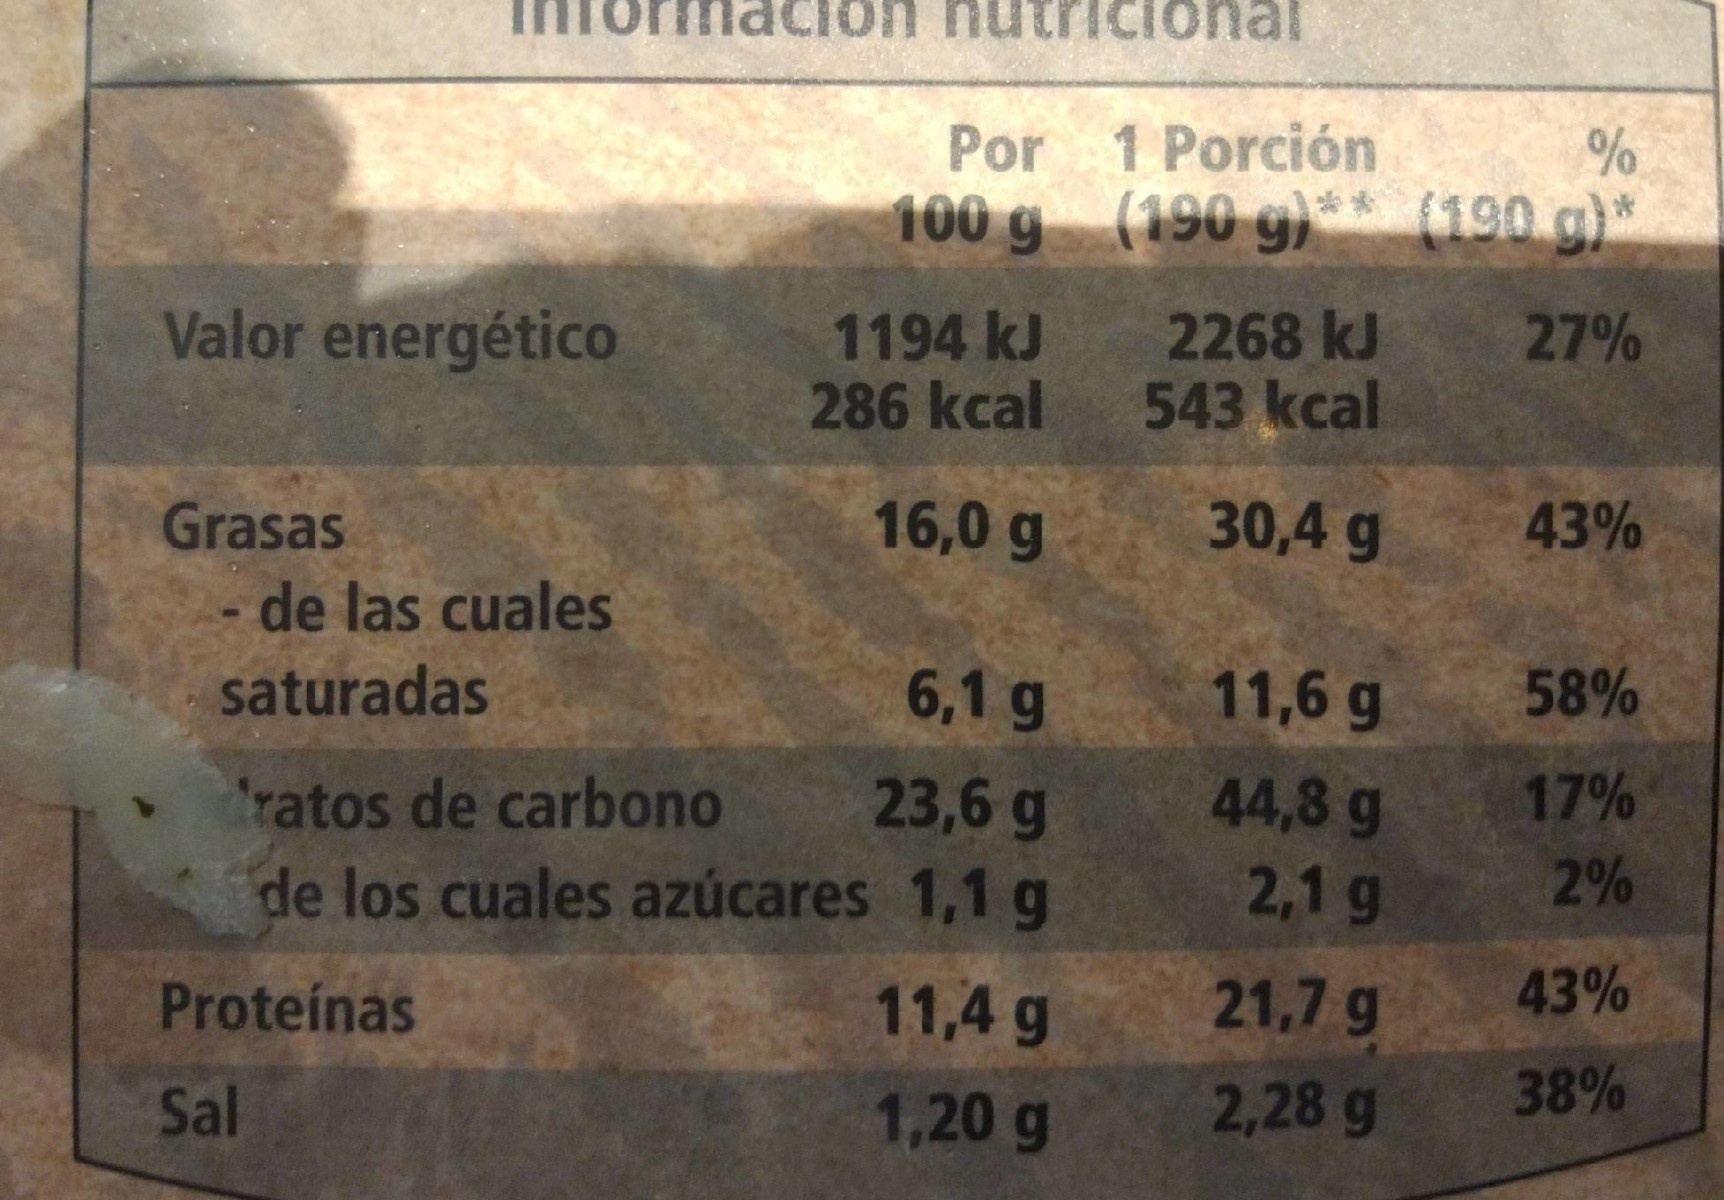column: (128, 267, 783, 1152), (1093, 96, 1393, 1158), (794, 96, 1074, 1154), (1404, 94, 1644, 1159)
table: (96, 86, 1710, 1141)
